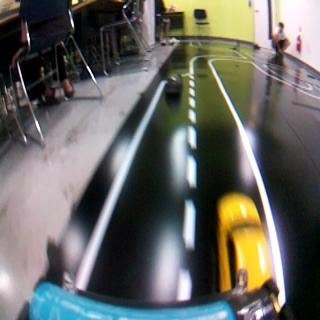car: (218, 196, 272, 310), (160, 71, 187, 100)
